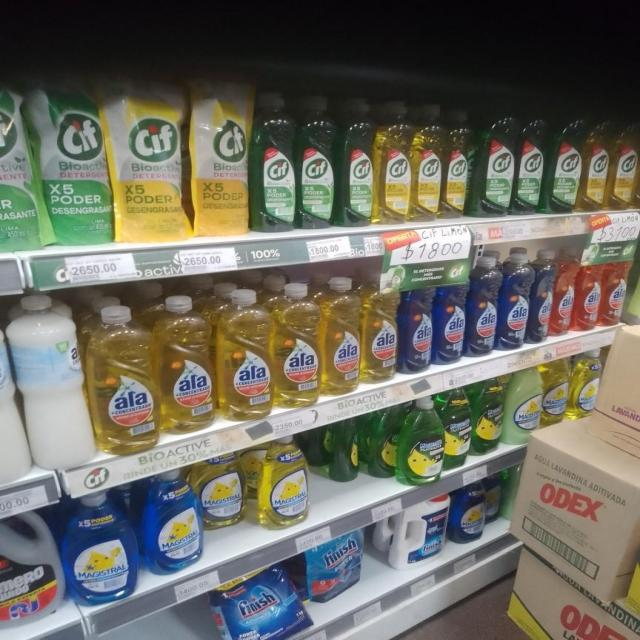ala_conc_amarillo: (90, 303, 158, 454), (160, 293, 216, 434), (218, 286, 272, 420), (273, 281, 321, 408), (322, 276, 361, 396), (362, 272, 398, 385)
ala_conc_azul: (434, 265, 466, 366), (498, 250, 530, 351), (467, 253, 498, 357), (400, 278, 433, 374), (530, 248, 552, 344)
ala_conc_rojo: (576, 245, 602, 332), (602, 240, 628, 326), (554, 246, 576, 337)
ala_crem_blanco: (0, 300, 19, 488)
cif_conc_bot_amarilla: (376, 101, 411, 225), (412, 105, 442, 222), (443, 108, 472, 220), (582, 120, 610, 212), (610, 119, 638, 210)
cif_conc_botella_verde: (252, 91, 295, 233), (297, 94, 336, 229), (338, 98, 375, 228), (474, 112, 514, 218), (548, 118, 581, 214), (515, 116, 546, 216), (627, 237, 640, 326)
cif_conc_sachet_amarillo: (111, 77, 186, 245), (190, 78, 250, 238)
cif_conc_sachet_verde: (42, 80, 110, 246), (0, 83, 40, 252)
magistral_con_amarillo: (257, 434, 310, 530), (199, 450, 245, 530), (571, 349, 602, 419), (542, 357, 569, 425)
magistral_con_azul: (64, 489, 137, 605), (143, 467, 200, 576), (451, 483, 486, 544)
